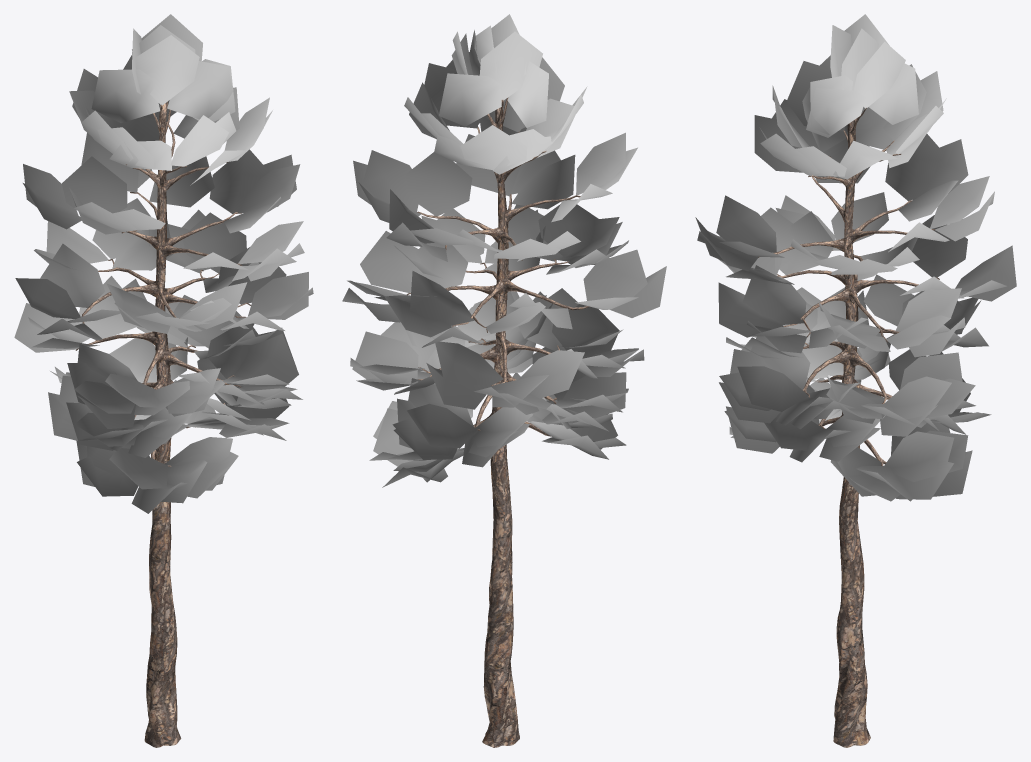
The model's file is arbol.obj.
3 views of the same model, side by side, from view 1: azimuth 30°, elevation 25°; view 2: azimuth 150°, elevation 25°; view 3: azimuth 270°, elevation 25° (orthographic).
Visible parts, largest first — view 1: Tree_1_Material, Tree_1_Material.001; view 2: Tree_1_Material, Tree_1_Material.001; view 3: Tree_1_Material, Tree_1_Material.001.
Boxes of the visible parts, bbox=[...] form: Tree_1_Material: bbox=[14, 14, 313, 513]; Tree_1_Material.001: bbox=[75, 101, 250, 747]; Tree_1_Material: bbox=[342, 14, 666, 487]; Tree_1_Material.001: bbox=[406, 97, 590, 747]; Tree_1_Material: bbox=[695, 14, 1016, 501]; Tree_1_Material.001: bbox=[758, 107, 939, 747].
Bounding box in the file's own units: 2.18 × 5.32 × 2.17.
